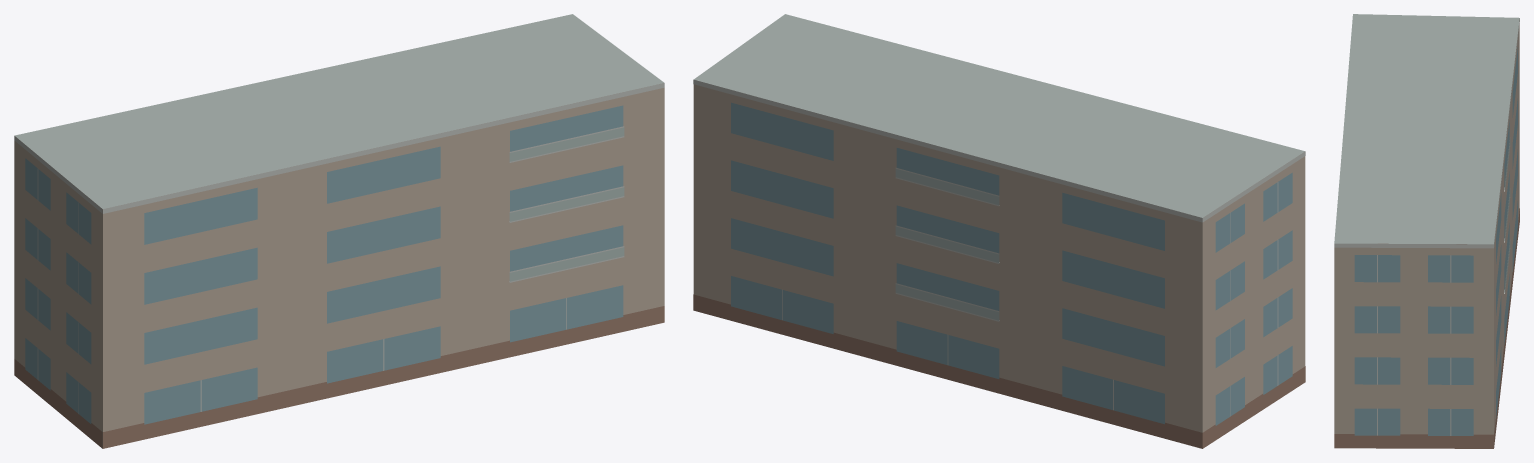
The model's file is survey-upis-32494329.glb.
The picture shows the model from 3 angles, left to right: view 1: azimuth 30°, elevation 25°; view 2: azimuth 150°, elevation 25°; view 3: azimuth 270°, elevation 25°; orthographic projection. The views are drawn at different scales.
Parts seen in each view (by area): view 1: survey-upis-32494329.tmp; view 2: survey-upis-32494329.tmp; view 3: survey-upis-32494329.tmp.
Boxes of the visible parts, box(x1,y1,x2,y2) form: survey-upis-32494329.tmp: box(14, 14, 664, 448); survey-upis-32494329.tmp: box(693, 14, 1305, 448); survey-upis-32494329.tmp: box(1334, 14, 1519, 448).
Bounding box in the file's own units: 29.44 × 12.2 × 10.03.
